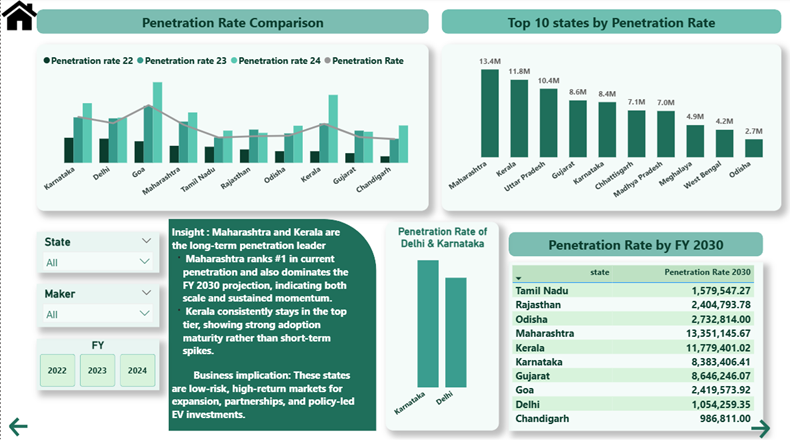

What the dashboard file says about the page in this screenshot:
{"tool":"powerbi","page":{"name":"Regional Opportunity Analysis","canvas":[1280,720],"ordinal":3},"visuals":[{"type":"lineClusteredColumnComboChart","fields":{"Category":["electric_vehicle_sales_by_state.state"],"Y":["electric_vehicle_sales_by_state.Penetration rate 22","electric_vehicle_sales_by_state.Penetration rate 23","electric_vehicle_sales_by_state.Penetration rate 24"],"Y2":["electric_vehicle_sales_by_state.Penetration Rate"]},"box":[58.6,75.6,635,270.2],"z":0},{"type":"columnChart","fields":{"Category":["electric_vehicle_sales_by_state.state"],"Y":["electric_vehicle_sales_by_state.Penetration Rate 2030"]},"box":[714.3,75.6,549.9,270.2],"z":1000},{"type":"tableEx","fields":{"Values":["electric_vehicle_sales_by_state.state","electric_vehicle_sales_by_state.Penetration Rate 2030"]},"box":[822.1,429,412,274],"z":2000},{"type":"shape","box":[58.6,18.9,635,39.7],"z":3000},{"type":"shape","box":[714.3,18.9,549.9,39.7],"z":4000},{"type":"shape","box":[822.1,379.8,412,39.7],"z":5000},{"type":"clusteredColumnChart","title":"Penetration Rate of Delhi & Karnataka","fields":{"Y":["electric_vehicle_sales_by_state.penetration rate delhi karnataka"],"Category":["electric_vehicle_sales_by_state.state"]},"box":[623.6,364.7,183.3,338.3],"z":6000},{"type":"shape","box":[272.1,359.1,336.4,343.9],"z":7000},{"type":"textbox","box":[272.1,364.7,309.9,338.3],"z":8000},{"type":"actionButton","box":[1209.5,680.3,69.9,39.7],"z":9000},{"type":"actionButton","box":[9.4,676.5,100.2,39.7],"z":10000},{"type":"advancedSlicerVisual","title":"FY","fields":{"Values":["dim_date.fiscal_year"]},"box":[58.6,553.7,198.4,83.2],"z":11000},{"type":"slicer","fields":{"Values":["electric_vehicle_sales_by_state.state"]},"box":[58.6,379.8,198.4,66.1],"z":12000},{"type":"slicer","fields":{"Values":["electric_vehicle_sales_by_state.state"]},"box":[58.6,464.9,198.4,69.9],"z":13000},{"type":"image","box":[0,0,60,58],"z":14000}]}

Visuals, with their boxes in screenshot pixels (x1, y1, x2, y2), scaled from the page's 1280x720 canvas onto the 790x446 screenshot:
lineClusteredColumnComboChart - electric_vehicle_sales_by_state.state x electric_vehicle_sales_by_state.Penetration rate 22: (36, 47, 428, 214)
columnChart - electric_vehicle_sales_by_state.state x electric_vehicle_sales_by_state.Penetration Rate 2030: (441, 47, 780, 214)
tableEx - electric_vehicle_sales_by_state.state x electric_vehicle_sales_by_state.Penetration Rate 2030: (507, 266, 762, 435)
shape: (36, 12, 428, 36)
shape: (441, 12, 780, 36)
shape: (507, 235, 762, 260)
"Penetration Rate of Delhi & Karnataka" clusteredColumnChart: (385, 226, 498, 435)
shape: (168, 222, 376, 435)
textbox: (168, 226, 359, 435)
actionButton: (746, 421, 789, 445)
actionButton: (6, 419, 68, 444)
"FY" advancedSlicerVisual: (36, 343, 159, 395)
slicer - electric_vehicle_sales_by_state.state: (36, 235, 159, 276)
slicer - electric_vehicle_sales_by_state.state: (36, 288, 159, 331)
image: (0, 0, 37, 36)
